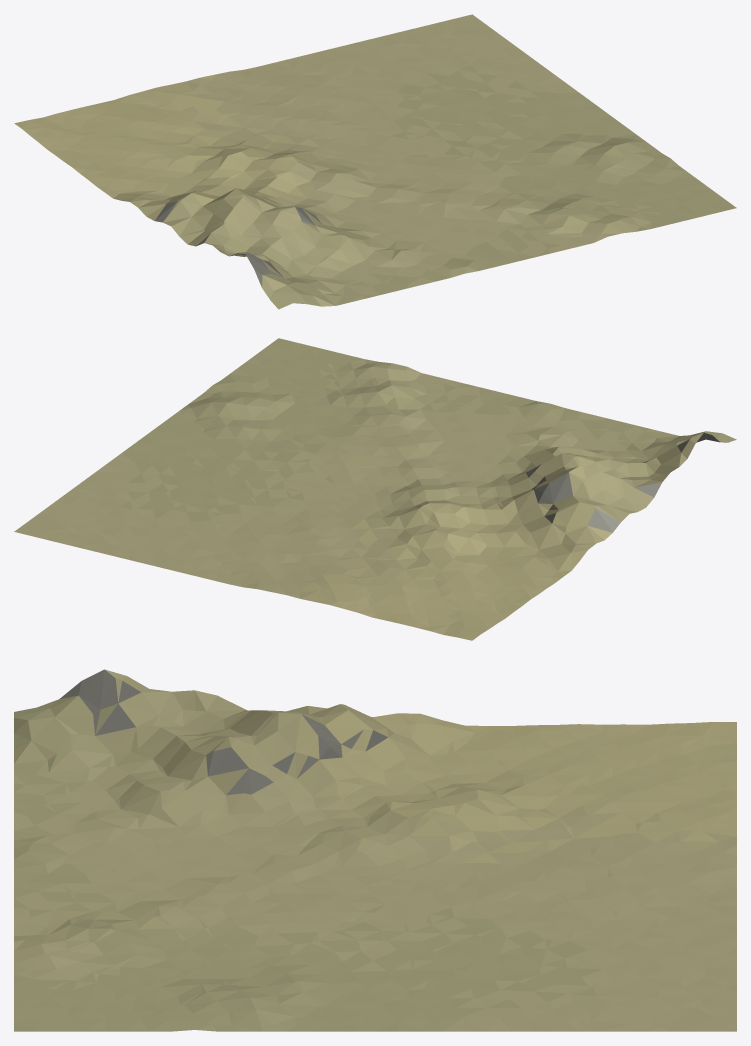
Rendered from Ground_-2_-7.glb.
The picture shows the model from 3 angles, top to bottom: view 1: azimuth 30°, elevation 25°; view 2: azimuth 150°, elevation 25°; view 3: azimuth 270°, elevation 25°; orthographic projection. The views are drawn at different scales.
Visible parts, largest first — view 1: Ground_-2_-7; view 2: Ground_-2_-7; view 3: Ground_-2_-7.
Boxes of the visible parts, x1,y1,x2,y2 form: Ground_-2_-7: (14, 14, 736, 309); Ground_-2_-7: (14, 338, 736, 640); Ground_-2_-7: (14, 669, 736, 1031).
Bounding box in the file's own units: 768 × 66.38 × 768.
